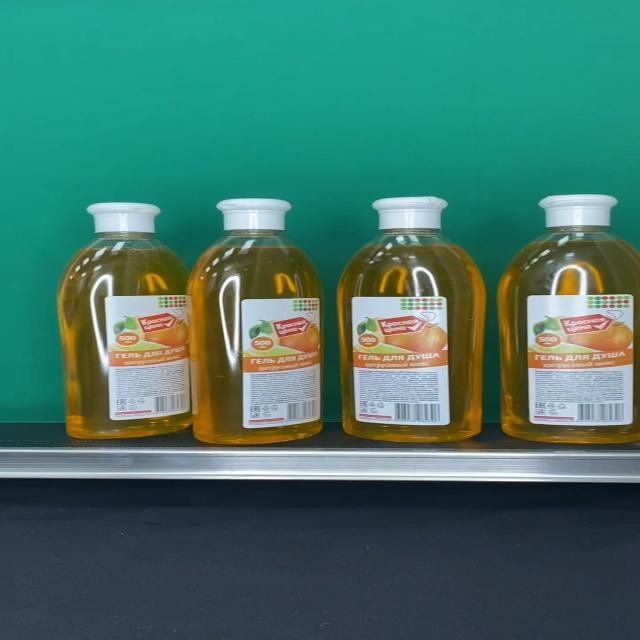Bottle: (336, 197, 486, 441), (496, 194, 640, 444), (189, 199, 323, 444), (57, 203, 194, 439)
Cap: (539, 194, 618, 227), (216, 198, 291, 231), (372, 197, 447, 230), (88, 203, 160, 233)
